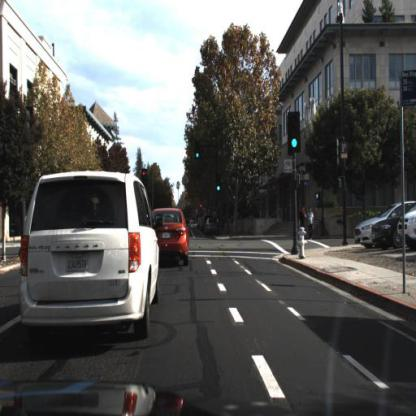car: (11, 162, 164, 347), (137, 202, 191, 274), (354, 212, 387, 252), (372, 214, 401, 254), (399, 206, 416, 253), (205, 217, 222, 238)
pedestrian: (299, 208, 307, 239), (306, 206, 315, 233)
trafficLight: (288, 110, 303, 158), (216, 176, 224, 197)
trafficLight-Green: (195, 142, 202, 165)
trafficLight-RedLeft: (141, 165, 149, 188)
